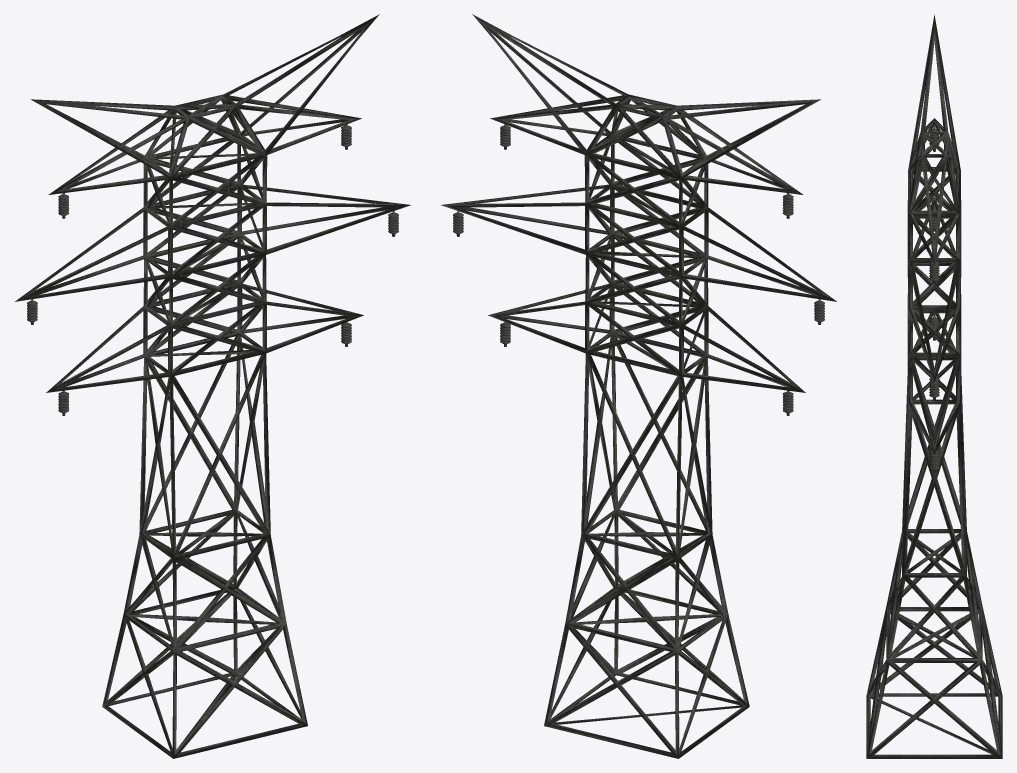
File: Tower_01.glb
3 renders of one model, left to right at view 1: azimuth 30°, elevation 25°; view 2: azimuth 150°, elevation 25°; view 3: azimuth 270°, elevation 25°, orthographic. The views are drawn at different scales.
Visible parts, largest first — view 1: Tower_01.001; view 2: Tower_01.001; view 3: Tower_01.001.
Boxes of the visible parts, x1=… form: Tower_01.001: x1=15, y1=14, x2=410, y2=758; Tower_01.001: x1=441, y1=14, x2=836, y2=758; Tower_01.001: x1=866, y1=14, x2=1002, y2=758.
Bounding box in the file's own units: 25.3 × 40.15 × 7.85.
1 material, 1 textured.
